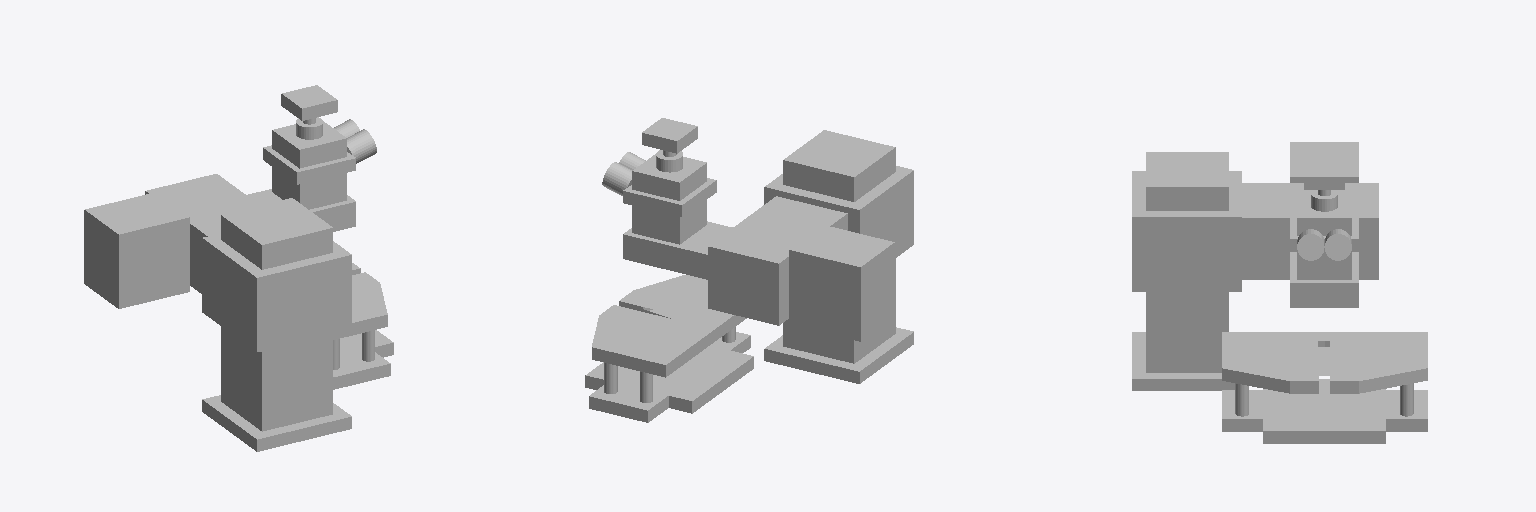
Rendered from Microscope 1.obj.
The picture shows the model from 3 angles: view 1: azimuth 30°, elevation 25°; view 2: azimuth 150°, elevation 25°; view 3: azimuth 270°, elevation 25°; orthographic projection.
Parts seen in each view (by area): view 1: Scope, Base, Cube; view 2: Base, Scope, Cube; view 3: Base, Scope, Cube.
Boxes of the visible parts, box(x1,y1,x2,y2) form: Scope: box(145, 85, 376, 351); Base: box(202, 198, 393, 451); Cube: box(84, 192, 189, 308); Base: box(585, 130, 913, 422); Scope: box(602, 118, 913, 325); Cube: box(789, 225, 894, 341); Base: box(1132, 152, 1427, 443); Scope: box(1132, 160, 1378, 307); Cube: box(1290, 142, 1358, 182).
Size of the model in its own units: 44.45 by 40 by 43.